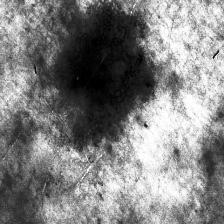Benign Marking or Mole: (56, 8, 153, 144)
